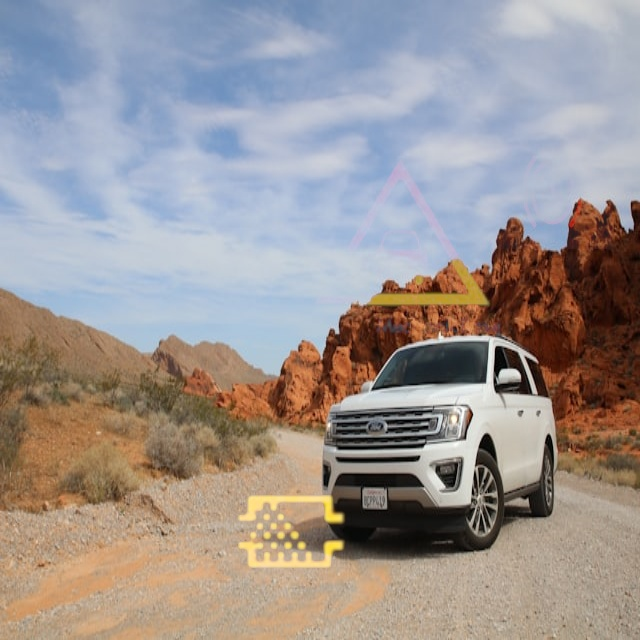symbol: (291, 126, 509, 344), (199, 441, 383, 625), (492, 128, 613, 249)
